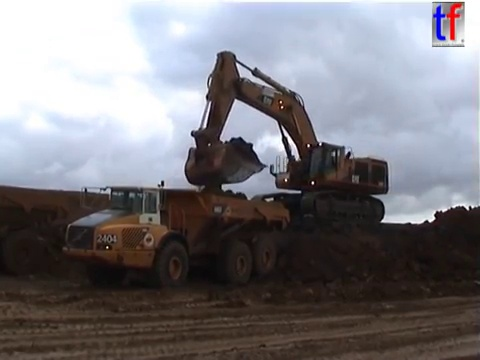excavator: (182, 48, 393, 226)
truck: (60, 178, 294, 290), (1, 183, 148, 279)
